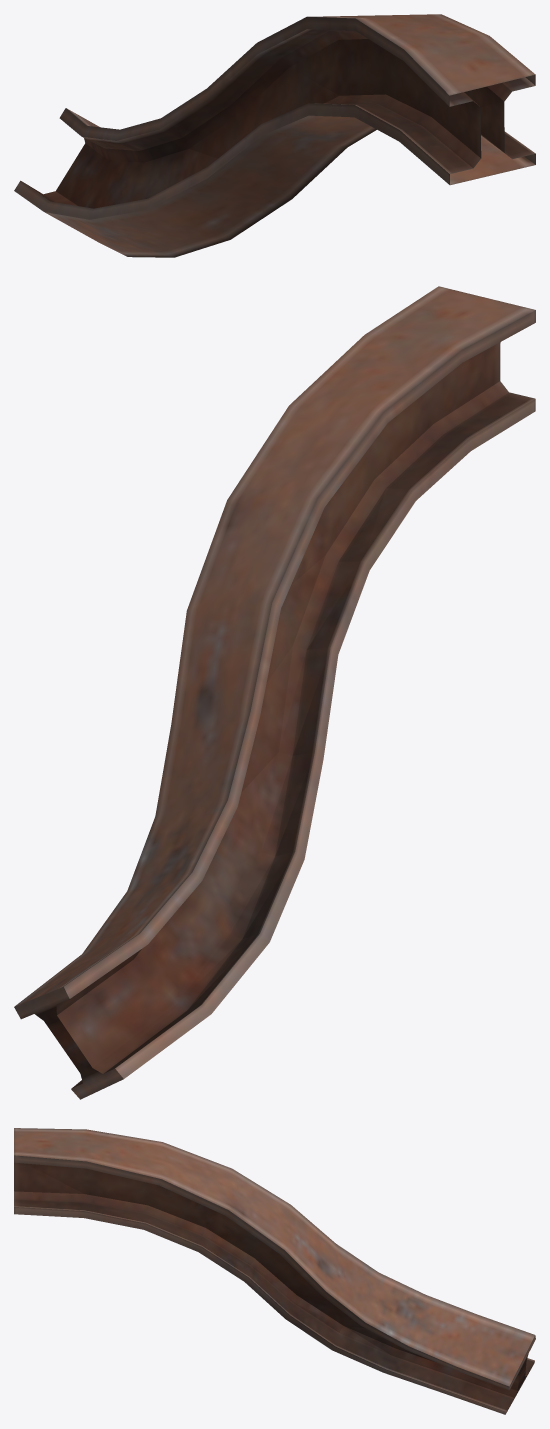
The model's file is welder_girder_bent02.dae.
3 renders of one model, top to bottom at view 1: azimuth 30°, elevation 25°; view 2: azimuth 150°, elevation 25°; view 3: azimuth 270°, elevation 25°, orthographic. The views are drawn at different scales.
Parts seen in each view (by area): view 1: welder_girder_bent02; view 2: welder_girder_bent02; view 3: welder_girder_bent02.
Part boxes in pixels (x1=…): welder_girder_bent02: x1=14, y1=14, x2=535, y2=257; welder_girder_bent02: x1=14, y1=286, x2=535, y2=1099; welder_girder_bent02: x1=14, y1=1128, x2=535, y2=1414.
Size of the model in its own units: 0.4939 by 1.2 by 2.02.
